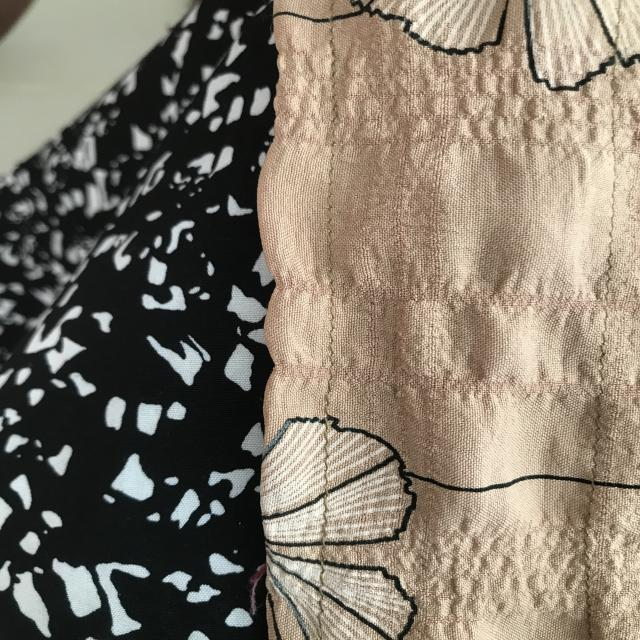good: (311, 303, 347, 394)
